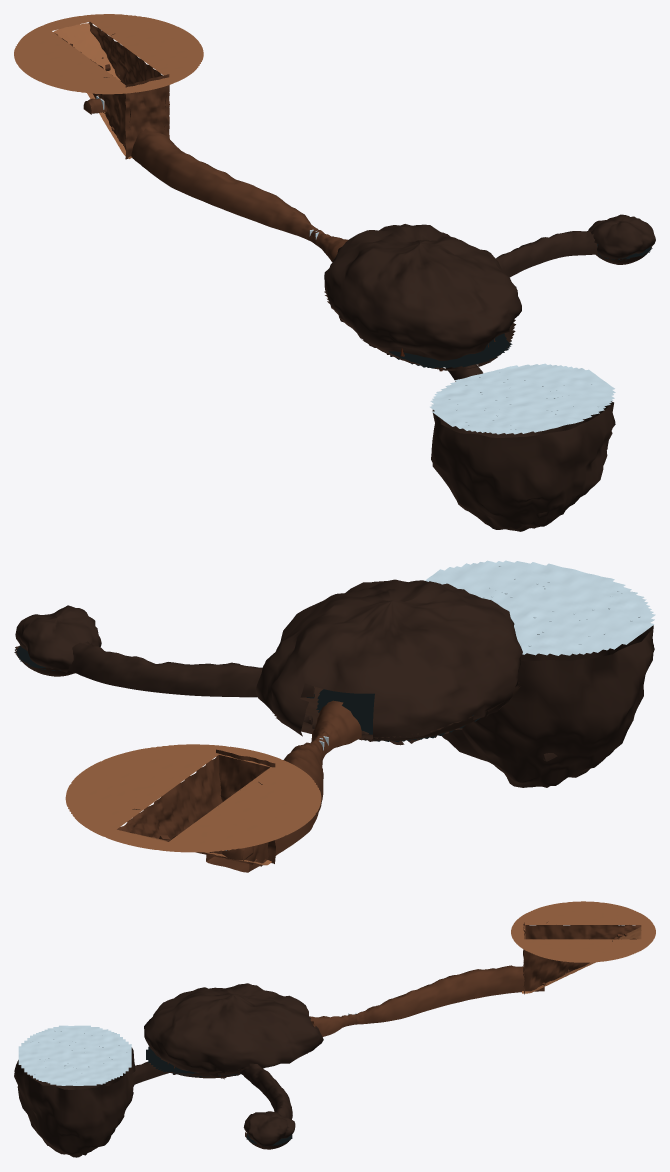
The model's file is mars_cave.glb.
3 renders of one model, top to bottom at view 1: azimuth 30°, elevation 25°; view 2: azimuth 150°, elevation 25°; view 3: azimuth 270°, elevation 25°, orthographic. The views are drawn at different scales.
Parts seen in each view (by area): view 1: cave_hall, cave_basin, cave_ice_shelf, cave_cap, cave_gallery, cave_trench, cave_pool, cave_channel, cave_lake_surface; view 2: cave_hall, cave_basin, cave_cap, cave_ice_shelf, cave_channel, cave_trench, cave_pool, cave_gallery, cave_lake_surface, cave_hall_floor; view 3: cave_hall, cave_basin, cave_ice_shelf, cave_cap, cave_gallery, cave_trench, cave_pool, cave_channel, cave_lake_surface, cave_tunnel, cave_hall_floor.
Boxes of the visible parts, x1=… form: cave_hall: x1=324, y1=224, x2=521, y2=360; cave_basin: x1=431, y1=401, x2=615, y2=531; cave_ice_shelf: x1=430, y1=363, x2=615, y2=434; cave_cap: x1=14, y1=14, x2=203, y2=94; cave_gallery: x1=123, y1=127, x2=347, y2=261; cave_trench: x1=53, y1=22, x2=169, y2=159; cave_pool: x1=588, y1=214, x2=655, y2=264; cave_channel: x1=495, y1=230, x2=597, y2=277; cave_lake_surface: x1=388, y1=333, x2=512, y2=368; cave_hall: x1=255, y1=579, x2=522, y2=745; cave_basin: x1=442, y1=625, x2=654, y2=787; cave_cap: x1=65, y1=744, x2=321, y2=852; cave_ice_shelf: x1=425, y1=560, x2=655, y2=655; cave_channel: x1=68, y1=641, x2=315, y2=697; cave_trench: x1=117, y1=749, x2=275, y2=866; cave_pool: x1=14, y1=605, x2=101, y2=676; cave_gallery: x1=206, y1=700, x2=361, y2=872; cave_lake_surface: x1=316, y1=689, x2=480, y2=742; cave_hall_floor: x1=271, y1=682, x2=520, y2=740; cave_hall: x1=144, y1=983, x2=323, y2=1079; cave_basin: x1=14, y1=1047, x2=135, y2=1157; cave_ice_shelf: x1=18, y1=1025, x2=131, y2=1085; cave_cap: x1=511, y1=901, x2=655, y2=962; cave_gallery: x1=309, y1=965, x2=544, y2=1036; cave_trench: x1=522, y1=922, x2=641, y2=994; cave_pool: x1=243, y1=1111, x2=295, y2=1149; cave_channel: x1=240, y1=1063, x2=292, y2=1119; cave_lake_surface: x1=146, y1=1046, x2=241, y2=1077; cave_tunnel: x1=132, y1=1061, x2=168, y2=1084; cave_hall_floor: x1=148, y1=1052, x2=309, y2=1078.
Bounding box in the file's own units: 153 × 87.47 × 266.
